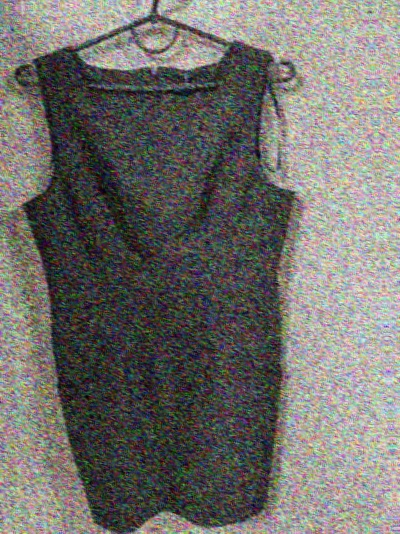Dress: (0, 16, 335, 534), (0, 532, 361, 534)
